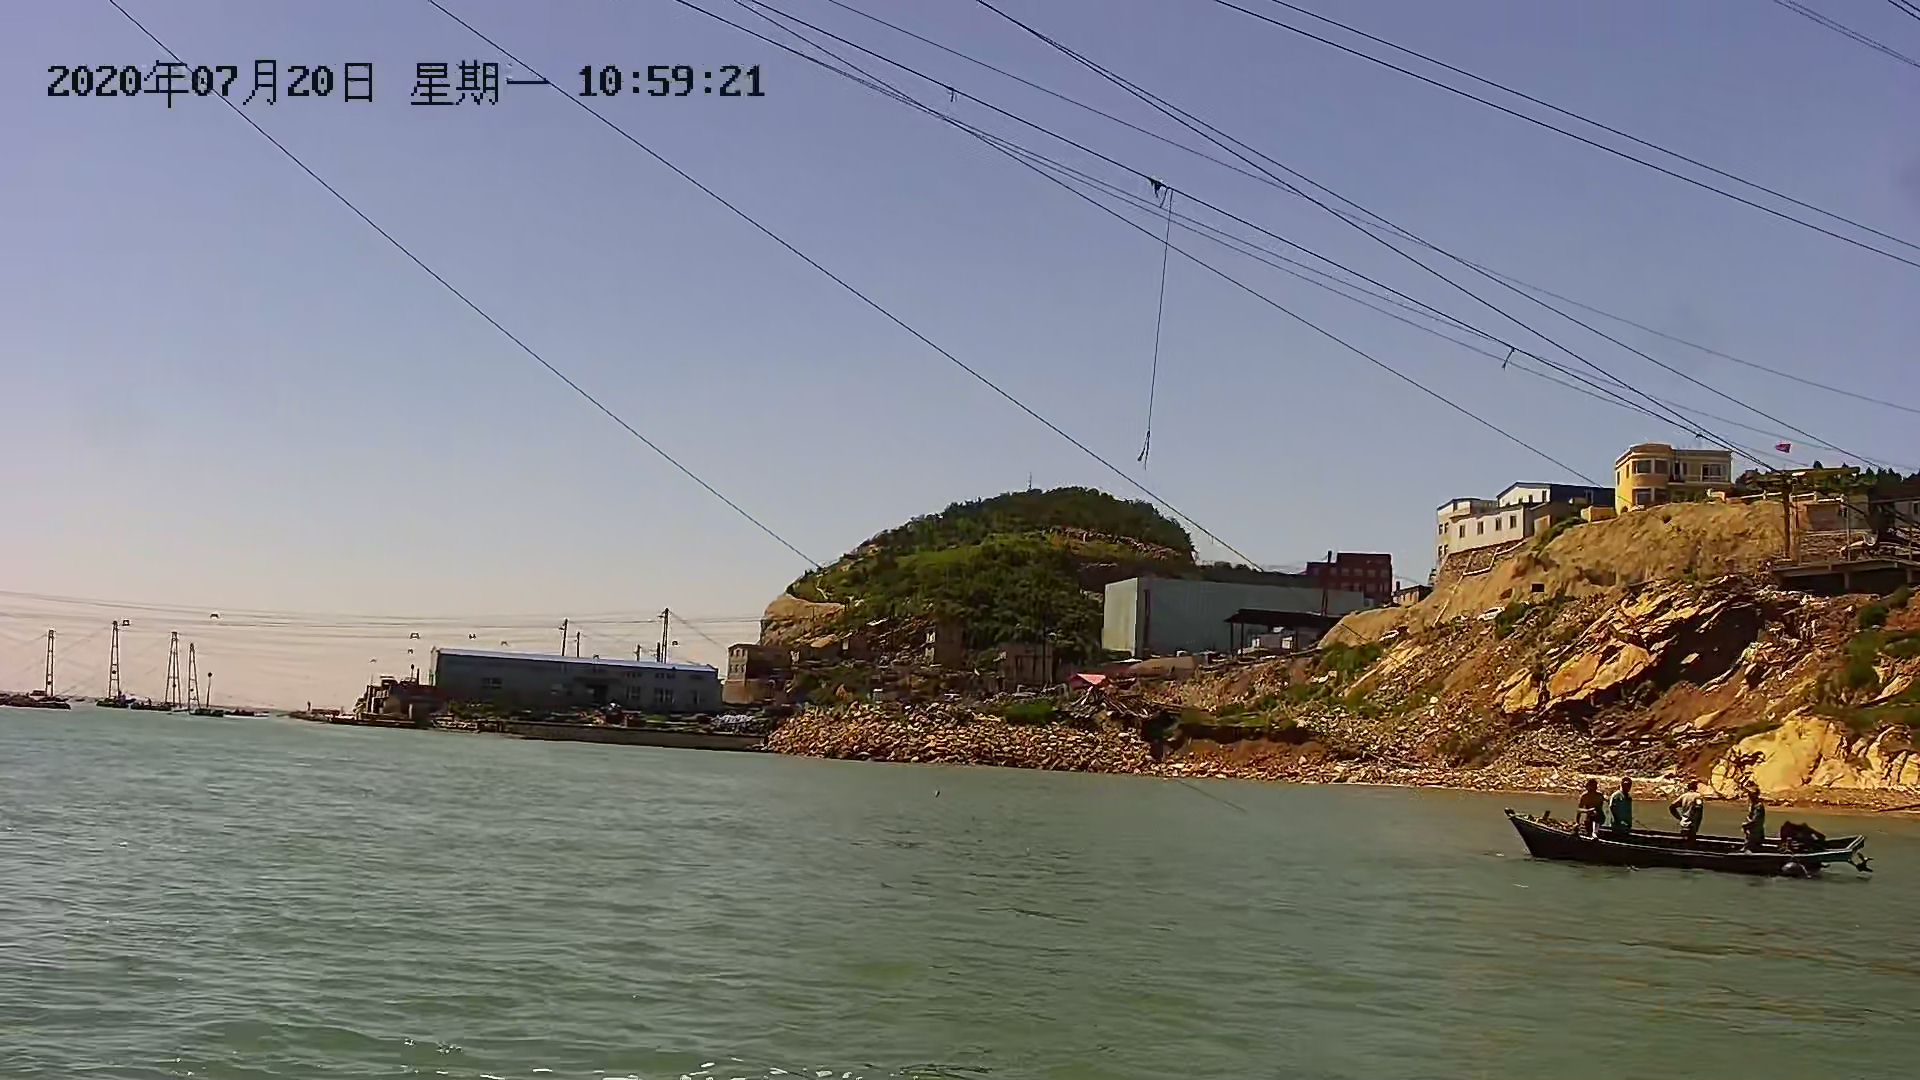boat: (1506, 807, 1866, 887)
person: (1669, 780, 1706, 858), (1572, 779, 1610, 844), (1739, 778, 1769, 858), (1605, 775, 1637, 848)
